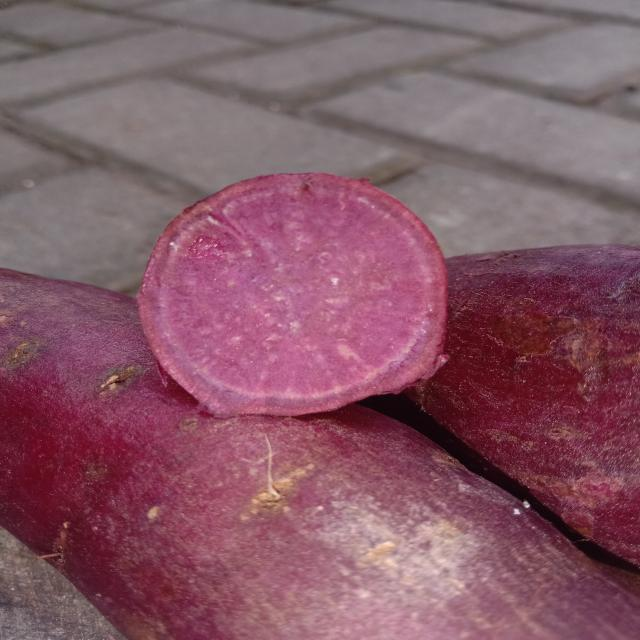Healthy Sweet Potato: (138, 174, 447, 418)
